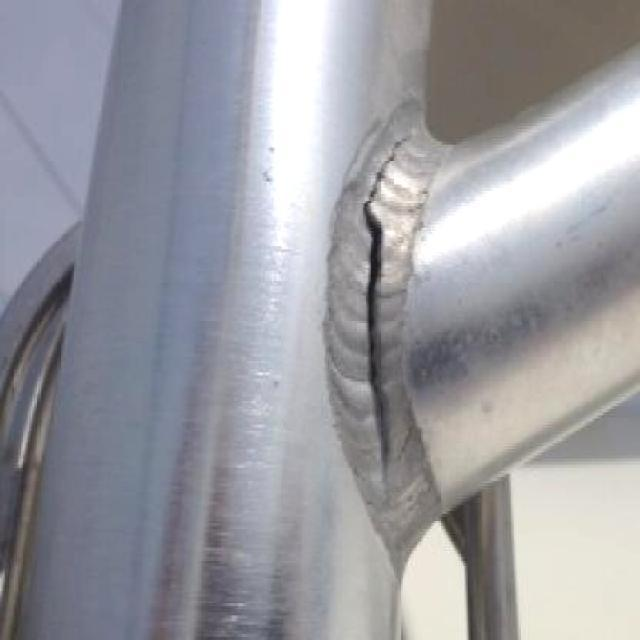crack: (366, 218, 388, 481), (367, 140, 401, 217)
